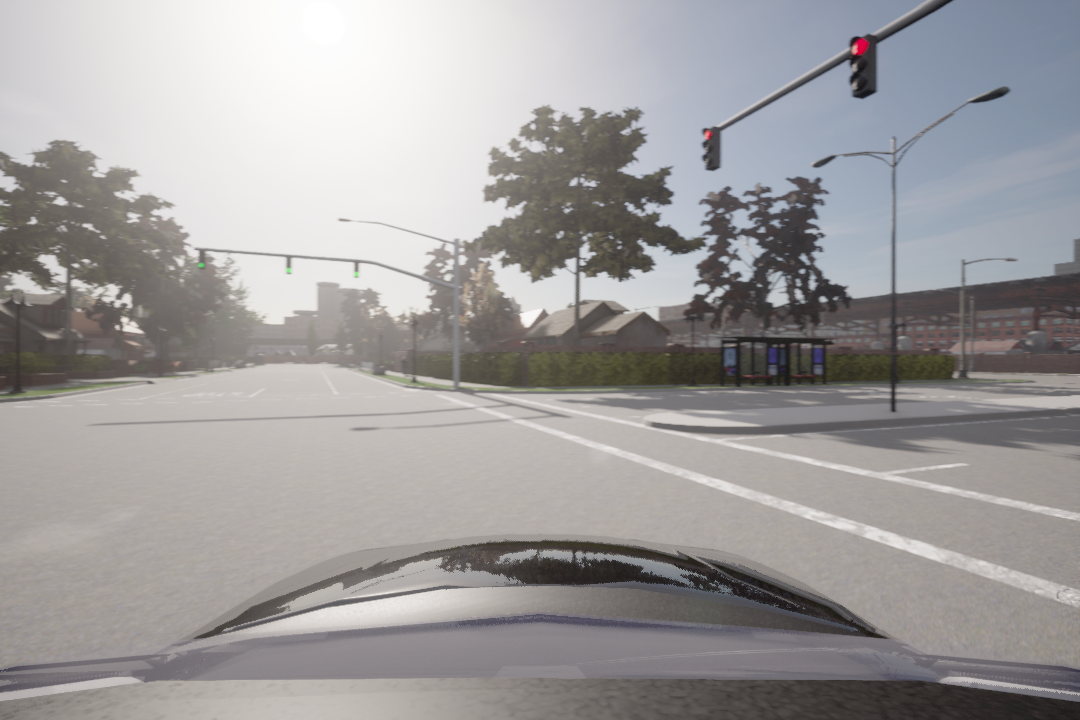TrafficLight: (846, 27, 875, 104), (701, 120, 724, 171), (195, 247, 207, 269), (283, 254, 294, 277), (352, 260, 362, 282)
